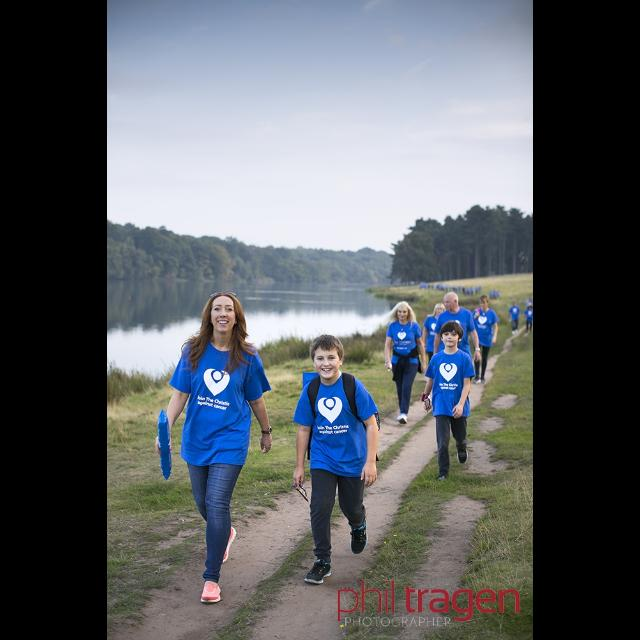head: (312, 335, 344, 381), (208, 294, 240, 334), (440, 320, 464, 348), (444, 292, 461, 312), (396, 301, 412, 321), (480, 296, 490, 310), (436, 303, 446, 317), (514, 301, 520, 307), (530, 297, 534, 301)
person: (152, 290, 276, 608), (291, 334, 384, 586), (420, 320, 480, 484), (432, 292, 486, 422), (384, 300, 428, 424), (421, 300, 457, 388), (469, 294, 503, 386), (508, 300, 522, 336)
